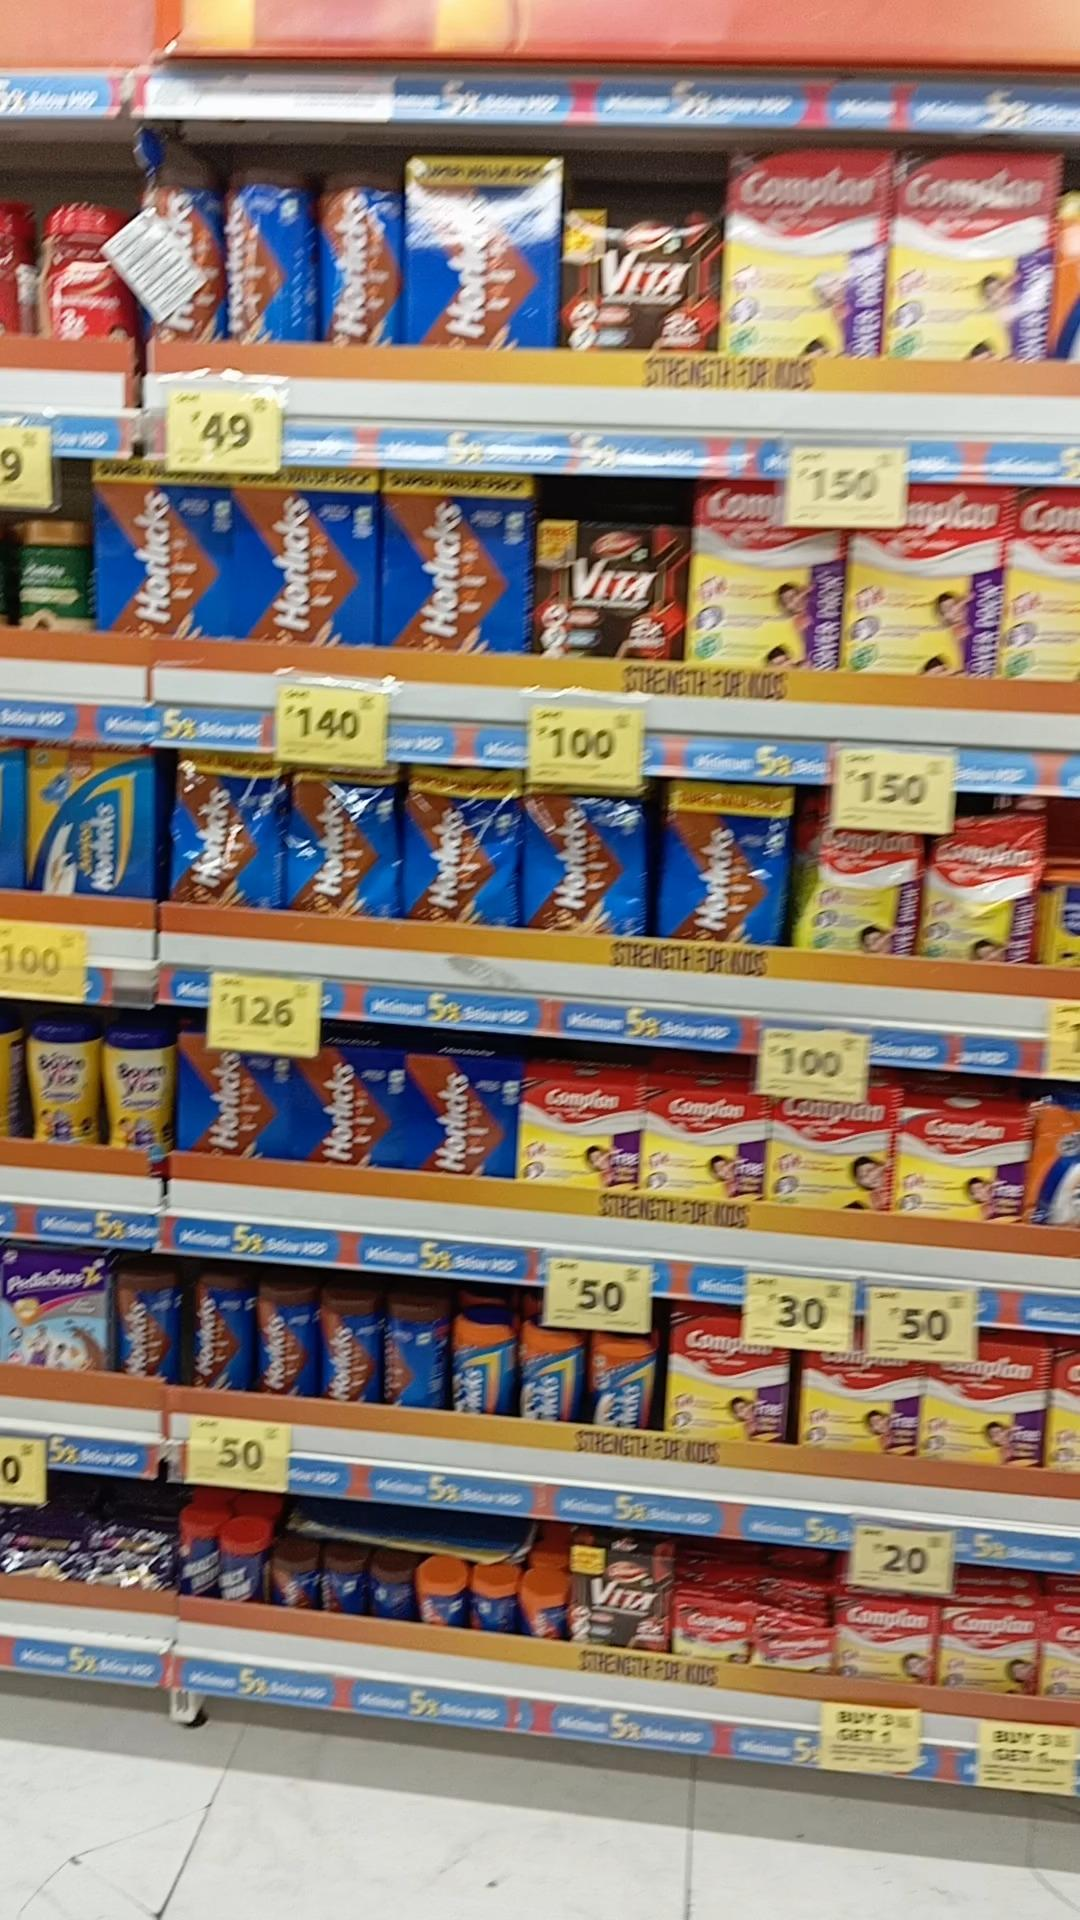BOURN_VITA_CHAMPS_500_G_JAR: (24, 1019, 98, 1146), (108, 1029, 171, 1158)
COMPLAN_CHOCOLATE_1_KG_PACK: (894, 145, 1050, 359), (724, 152, 884, 357), (694, 477, 841, 667), (855, 492, 1001, 679), (1007, 489, 1080, 673)
COMPLAN_CHOCOLATE_500_GMS_PACK: (931, 818, 1040, 967), (667, 1312, 787, 1443), (642, 1073, 767, 1197), (810, 815, 919, 952), (771, 1093, 893, 1213), (514, 1068, 640, 1184), (920, 1357, 1043, 1466), (802, 1348, 915, 1451)
COMPLAN_CREAMY_CLASSIC_500_G_PACK: (897, 1114, 1021, 1218), (942, 1610, 1039, 1693)
HORLICK_CHOCOLATE_1_KG_JAR: (224, 170, 305, 344), (318, 167, 396, 345), (145, 164, 220, 342)
HORLICK_CHOCOLATE_1_KG_PACK: (404, 157, 560, 347), (384, 467, 527, 654), (92, 458, 232, 640), (240, 469, 372, 645)
HORLICK_CHOCOLATE_200_G_JAR: (322, 1560, 368, 1615), (274, 1549, 311, 1605)
HORLICK_CHOCOLATE_500_G_JAR: (189, 1273, 249, 1396), (319, 1290, 376, 1406), (109, 1273, 169, 1377), (257, 1288, 311, 1396), (384, 1300, 430, 1414)
HORLICK_CHOCOLATE_500_G_PACK: (178, 1040, 294, 1158), (407, 1055, 514, 1174), (305, 1046, 401, 1167)
HORLICK_CHOCOLATE_750_G_POUCH: (666, 781, 786, 944), (524, 775, 641, 938), (171, 750, 280, 909), (406, 769, 518, 916), (289, 765, 396, 918)
HORLICK_CLASSIC_MALT_500_G_JAR: (588, 1321, 651, 1432), (518, 1317, 578, 1425), (450, 1308, 509, 1416)
HORLICK_CLASSIC_MALT_500_G_PACK: (26, 735, 153, 898)
